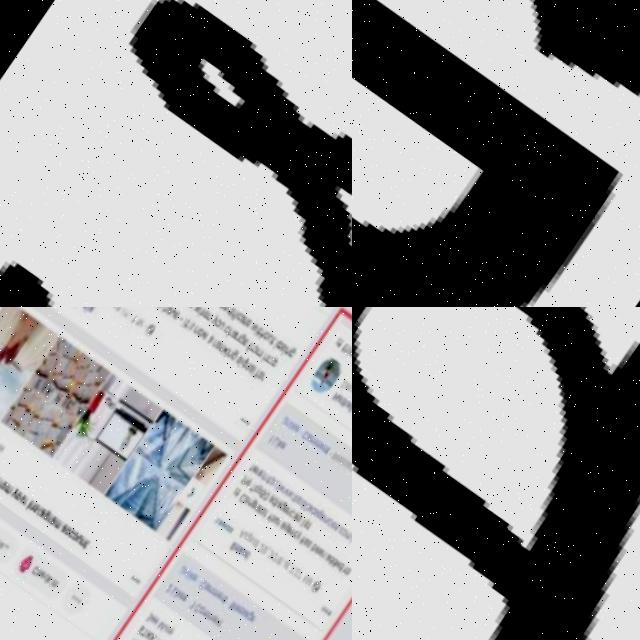0: (265, 479, 276, 493), (306, 488, 316, 502), (274, 540, 284, 552)
1: (131, 307, 141, 317), (195, 590, 203, 601), (279, 542, 286, 553), (271, 422, 278, 433)
2: (0, 0, 352, 307), (170, 574, 180, 585), (262, 531, 271, 543), (272, 538, 281, 549), (298, 556, 307, 567)
5: (302, 486, 313, 500), (262, 478, 271, 488)
6: (280, 543, 291, 557)
7: (300, 557, 310, 569), (293, 552, 301, 563)
9: (265, 533, 275, 545)
A: (352, 307, 640, 640), (43, 501, 53, 513), (306, 561, 316, 573), (54, 508, 63, 520), (243, 518, 252, 529), (232, 320, 241, 330), (283, 509, 292, 519), (272, 483, 281, 493), (209, 325, 217, 335), (288, 548, 296, 558), (339, 381, 347, 391), (65, 517, 73, 526), (251, 354, 259, 363), (240, 307, 249, 315), (248, 599, 256, 608), (311, 492, 319, 501), (317, 496, 325, 505), (217, 331, 225, 339), (260, 493, 267, 502), (308, 526, 315, 535), (330, 541, 337, 549), (280, 490, 287, 497), (348, 388, 352, 396), (349, 448, 352, 456)
B: (315, 532, 323, 541)
C: (199, 592, 210, 606), (242, 481, 253, 495), (304, 417, 315, 431), (36, 558, 46, 570), (73, 521, 82, 533), (205, 570, 214, 582), (69, 519, 78, 530), (48, 566, 56, 576), (225, 315, 233, 325), (144, 633, 155, 640), (342, 513, 350, 522), (331, 505, 338, 514), (297, 519, 304, 527), (293, 498, 300, 506), (236, 307, 246, 312), (0, 531, 4, 541)
D: (334, 545, 344, 558), (341, 549, 351, 562), (342, 366, 352, 378), (332, 542, 341, 555), (247, 539, 257, 550), (274, 485, 283, 497), (314, 495, 322, 504), (172, 634, 182, 640)
E: (352, 0, 629, 307), (338, 546, 348, 557), (246, 307, 255, 319), (245, 537, 254, 547), (249, 468, 258, 478), (290, 514, 299, 523), (244, 328, 252, 338), (159, 607, 167, 617), (216, 604, 224, 614), (255, 603, 263, 613), (319, 533, 327, 543), (287, 493, 295, 503), (197, 564, 205, 573), (222, 581, 230, 590), (240, 593, 248, 602), (261, 458, 269, 467), (297, 413, 305, 422), (168, 632, 177, 640), (324, 501, 332, 509), (142, 632, 150, 640), (45, 564, 52, 573), (156, 605, 163, 614), (175, 618, 182, 627), (184, 582, 191, 591), (322, 535, 329, 544), (298, 501, 305, 510), (335, 508, 342, 517), (340, 442, 347, 451), (346, 368, 352, 378), (284, 431, 291, 439), (257, 455, 263, 463), (323, 430, 329, 438), (149, 636, 158, 640), (174, 307, 182, 311), (203, 307, 211, 310)
F: (255, 358, 264, 369), (247, 331, 255, 342), (0, 471, 6, 483), (232, 307, 240, 310)
G: (46, 502, 57, 516), (242, 345, 253, 359), (287, 508, 298, 522), (282, 489, 293, 503), (240, 322, 251, 335), (290, 335, 300, 349), (251, 597, 261, 611), (232, 338, 242, 351), (250, 520, 260, 533), (321, 497, 330, 507), (254, 488, 263, 497)
H: (259, 317, 270, 331), (263, 341, 274, 354), (227, 317, 237, 331), (41, 562, 50, 573), (138, 309, 146, 319), (252, 453, 260, 462), (265, 462, 273, 471), (344, 386, 352, 395), (344, 332, 352, 341), (246, 467, 253, 476), (304, 525, 311, 533), (0, 435, 4, 446), (197, 307, 208, 310)
I: (182, 308, 191, 320), (225, 337, 234, 349), (239, 347, 248, 358), (282, 334, 291, 345), (255, 315, 263, 326), (30, 494, 38, 505), (54, 572, 62, 582), (277, 427, 285, 437), (1, 534, 8, 545), (179, 579, 186, 590), (192, 561, 199, 571), (135, 627, 142, 637), (332, 507, 339, 516), (292, 410, 299, 419), (0, 438, 6, 447), (295, 500, 301, 509), (150, 621, 156, 630), (306, 508, 312, 516), (233, 307, 242, 312), (348, 334, 352, 343), (176, 637, 183, 640)
K: (222, 335, 233, 349), (155, 623, 164, 635), (180, 580, 189, 591), (50, 569, 59, 579), (194, 562, 202, 573), (242, 535, 250, 546), (280, 428, 288, 439), (152, 622, 160, 632), (294, 412, 302, 421)
L: (252, 355, 261, 367), (275, 425, 284, 436), (274, 327, 282, 339), (190, 560, 198, 571), (176, 577, 184, 588), (305, 507, 311, 515), (291, 410, 297, 418), (349, 390, 352, 400)
M: (8, 478, 18, 489), (163, 611, 173, 622), (235, 590, 244, 602), (310, 564, 319, 576), (59, 512, 68, 523), (335, 440, 344, 450), (164, 630, 173, 640), (258, 337, 266, 347), (208, 598, 216, 608), (218, 578, 226, 588), (213, 602, 221, 611), (313, 424, 321, 433), (318, 427, 326, 436), (213, 575, 220, 584), (350, 518, 352, 526)
N: (33, 494, 42, 506), (84, 530, 93, 540), (220, 333, 229, 343), (246, 351, 255, 360), (219, 606, 228, 615), (195, 316, 203, 326), (236, 322, 244, 332), (286, 335, 294, 345), (229, 339, 237, 348), (225, 583, 233, 592), (335, 380, 343, 389), (239, 533, 246, 542), (289, 407, 296, 415), (251, 488, 258, 495), (295, 517, 301, 525), (291, 496, 297, 504), (58, 574, 64, 581), (189, 559, 195, 566), (326, 539, 332, 546), (328, 504, 334, 511), (326, 433, 332, 440), (207, 307, 215, 312)
O: (18, 484, 28, 496), (76, 524, 86, 535), (264, 320, 274, 331), (4, 475, 13, 487), (277, 328, 286, 340), (198, 318, 207, 328), (259, 359, 268, 369), (253, 334, 262, 344), (216, 309, 224, 319), (204, 595, 212, 605), (309, 421, 317, 430), (274, 503, 282, 511), (248, 485, 255, 494), (345, 515, 352, 524), (169, 615, 176, 623), (210, 573, 217, 581), (257, 474, 264, 482), (299, 484, 305, 491), (348, 553, 352, 563)
P: (273, 344, 283, 358), (261, 475, 269, 485), (274, 466, 281, 474)
R: (234, 530, 244, 542), (138, 629, 147, 640), (51, 507, 59, 517), (27, 491, 35, 500), (251, 333, 258, 342), (1, 474, 8, 482), (215, 329, 221, 338), (264, 362, 270, 371), (141, 313, 148, 320), (259, 457, 265, 464), (173, 617, 178, 624), (281, 508, 286, 515), (259, 493, 264, 499)
S: (151, 601, 161, 615), (142, 615, 152, 627), (37, 497, 46, 509), (310, 527, 319, 537), (190, 312, 198, 322), (238, 345, 246, 354), (264, 496, 272, 505), (338, 510, 346, 519), (243, 596, 251, 604), (2, 439, 9, 448), (188, 584, 195, 593), (246, 597, 253, 606), (282, 333, 289, 341), (257, 527, 264, 535), (343, 445, 350, 452), (301, 503, 307, 511), (346, 446, 352, 454), (309, 508, 315, 515), (350, 335, 352, 343)
T: (184, 309, 194, 322), (242, 307, 252, 318), (257, 315, 266, 327), (40, 501, 49, 512), (147, 619, 156, 630), (267, 343, 275, 355), (270, 345, 278, 357), (88, 533, 96, 544), (271, 325, 279, 336), (254, 472, 262, 482), (291, 549, 298, 560), (228, 584, 235, 594), (259, 529, 266, 539), (327, 434, 335, 442), (223, 608, 230, 617), (243, 465, 250, 474), (295, 482, 302, 491), (261, 496, 268, 504), (268, 464, 275, 472), (0, 533, 6, 542), (310, 510, 316, 519), (343, 384, 349, 393), (343, 331, 349, 340), (346, 553, 352, 561), (270, 465, 276, 473)
U: (183, 555, 192, 567), (23, 488, 32, 498), (80, 528, 89, 538), (284, 405, 293, 415), (269, 323, 277, 333), (220, 312, 227, 321), (247, 520, 254, 529), (254, 525, 261, 534), (277, 505, 284, 513)
V: (4, 536, 11, 545)
W: (202, 321, 212, 331), (252, 312, 261, 322), (283, 472, 290, 481), (291, 478, 298, 487), (287, 476, 294, 484)
Y: (158, 625, 169, 639), (15, 481, 25, 494), (300, 517, 310, 530), (211, 307, 222, 316), (270, 501, 279, 511)
